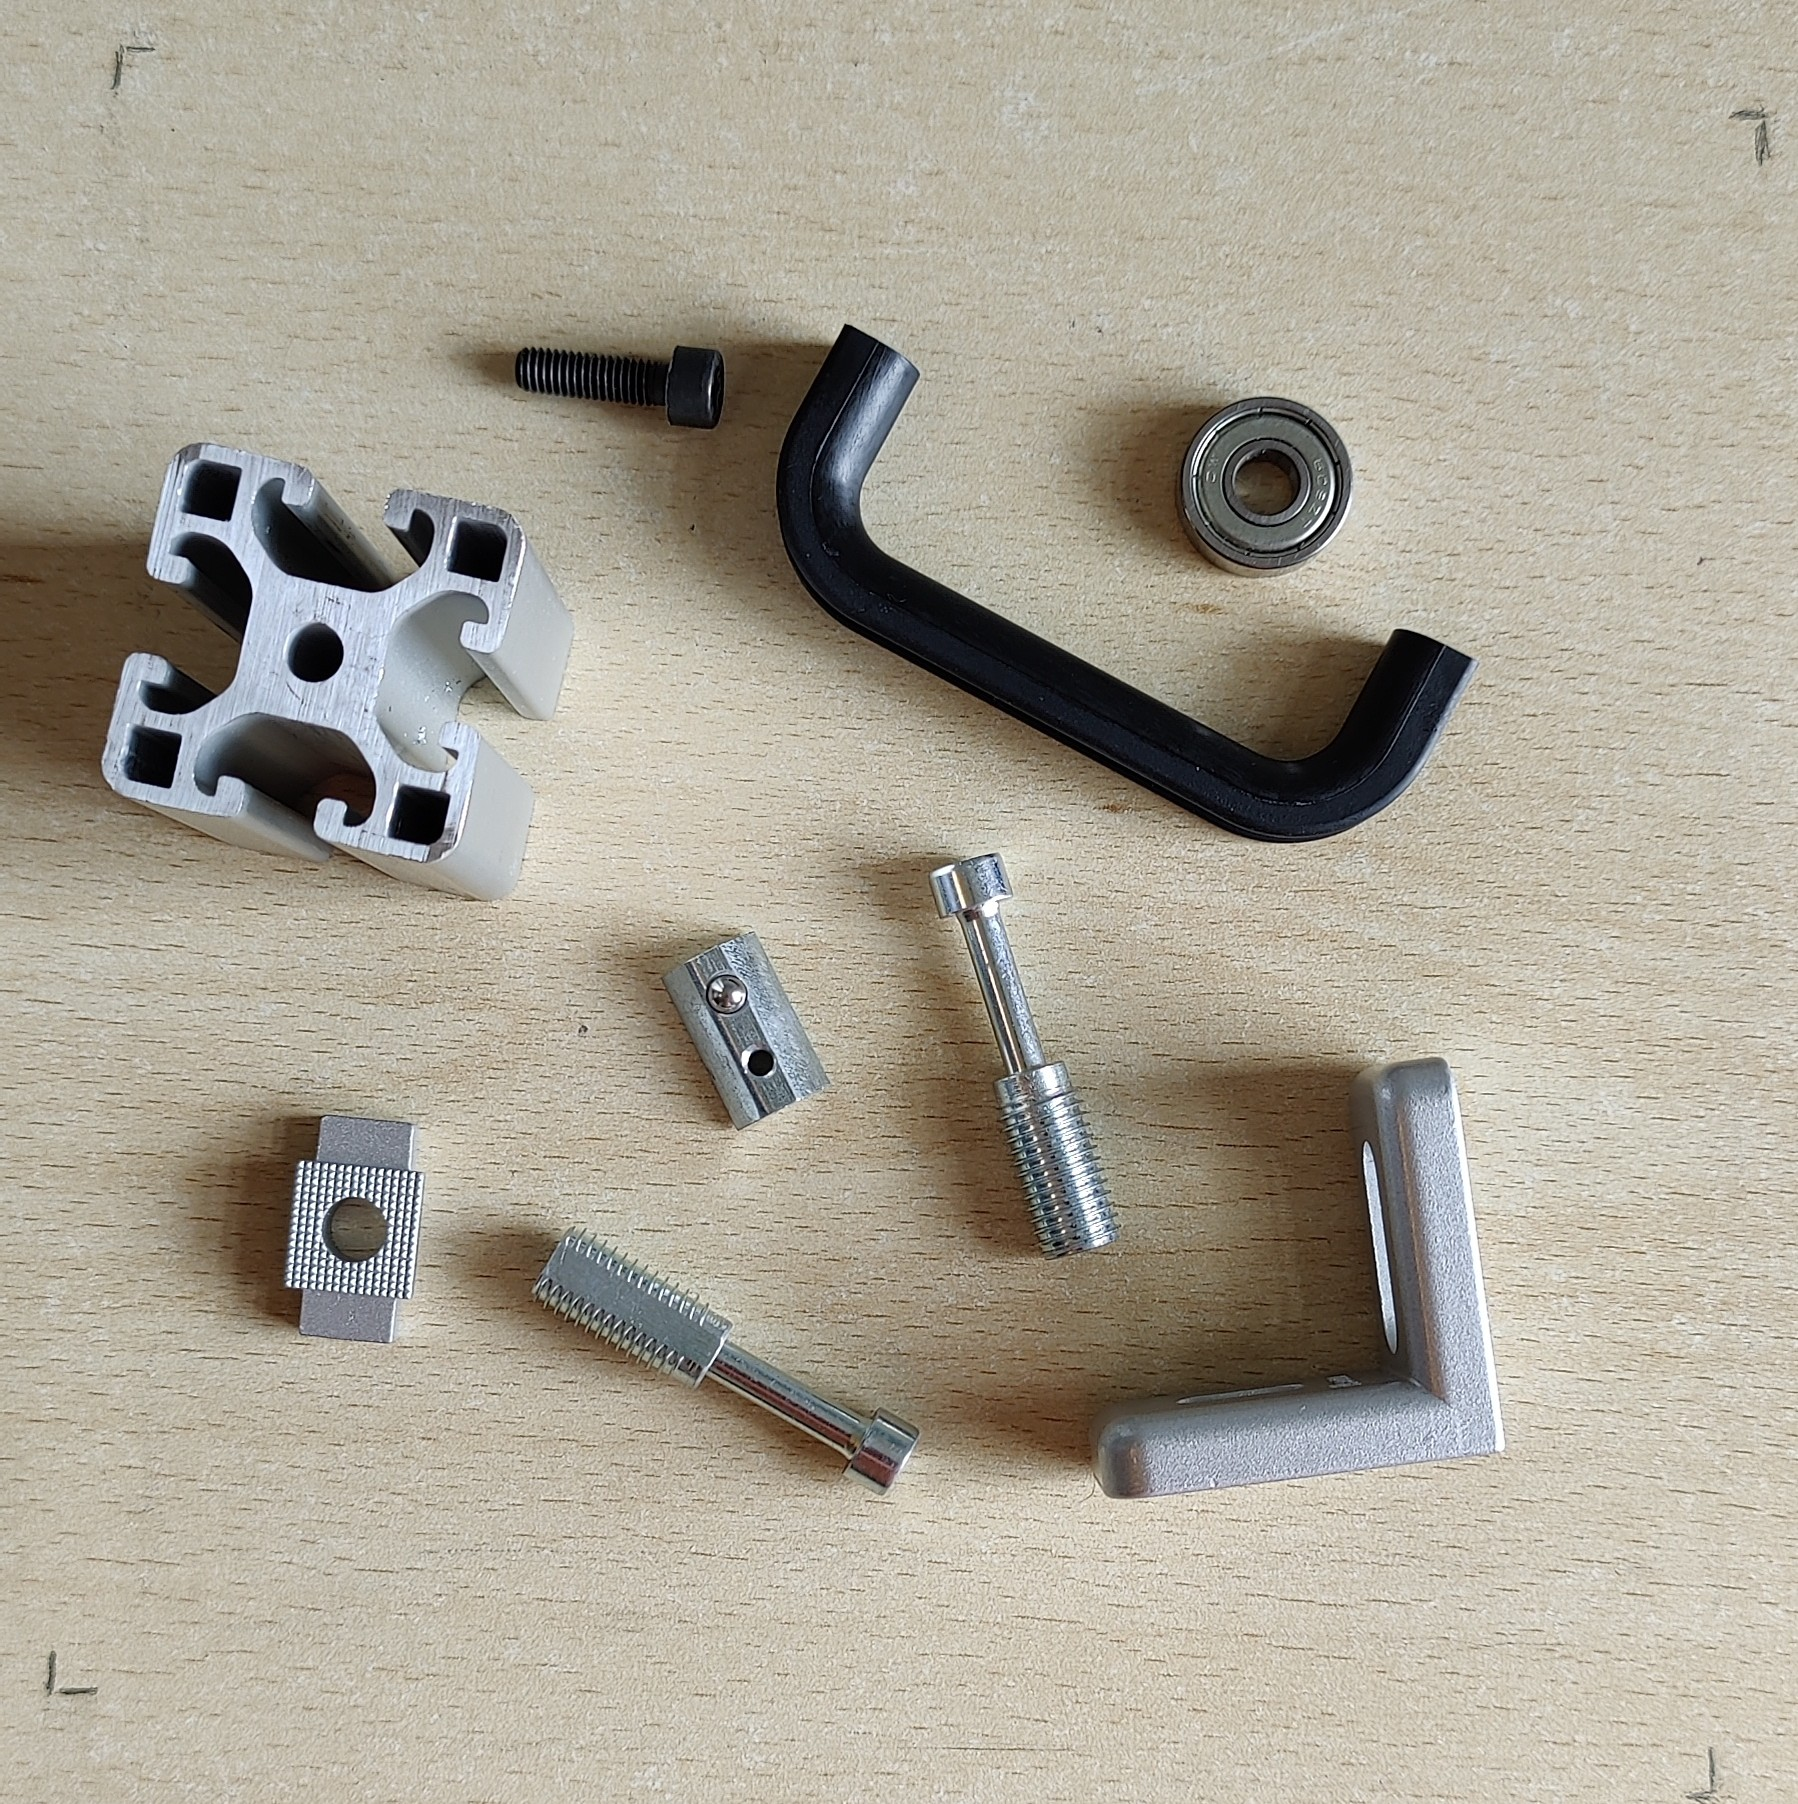Aluminium Extension: (95, 439, 578, 905)
Ball Bearing: (1172, 392, 1355, 581)
Multiwinkel: (1083, 1057, 1508, 1503)
Pull Handle: (772, 321, 1482, 848)
Shoulder Socket Head Cap Screw: (524, 1225, 924, 1499), (925, 853, 1126, 1262)
Socket Head Cap Screw: (510, 337, 726, 431)
T Nut Square: (282, 1109, 430, 1348)
T Spring Nut: (659, 927, 836, 1131)
